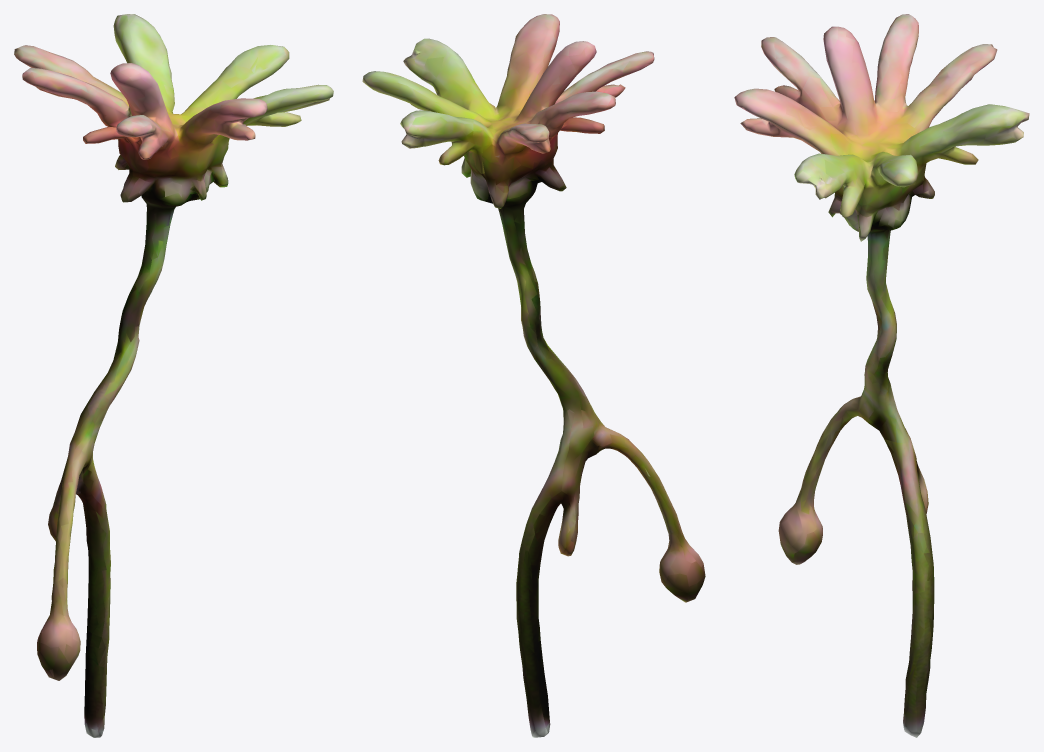
File: flower1.glb
The picture shows the model from 3 angles, left to right: view 1: azimuth 30°, elevation 25°; view 2: azimuth 150°, elevation 25°; view 3: azimuth 270°, elevation 25°; orthographic projection. The views are drawn at different scales.
Visible parts, largest first — view 1: flower1; view 2: flower1; view 3: flower1.
Boxes of the visible parts, x1=… form: flower1: x1=14, y1=14, x2=333, y2=737; flower1: x1=362, y1=14, x2=705, y2=737; flower1: x1=734, y1=14, x2=1029, y2=737.
Bounding box in the file's own units: 0.7738 × 1.72 × 0.6537.
1 material, 1 textured.
